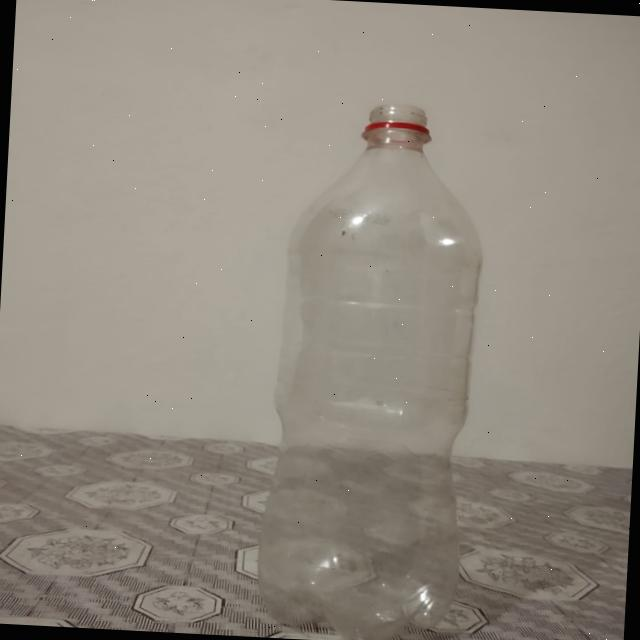bottle: (258, 93, 499, 640)
